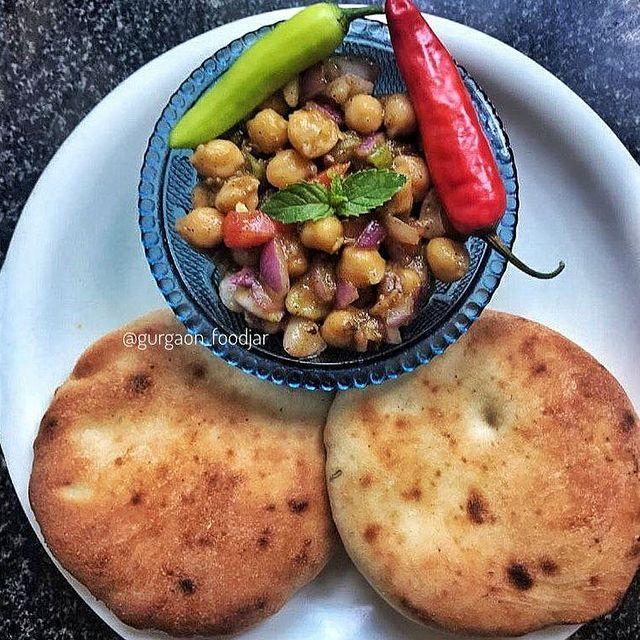Chole: (190, 95, 428, 355)
